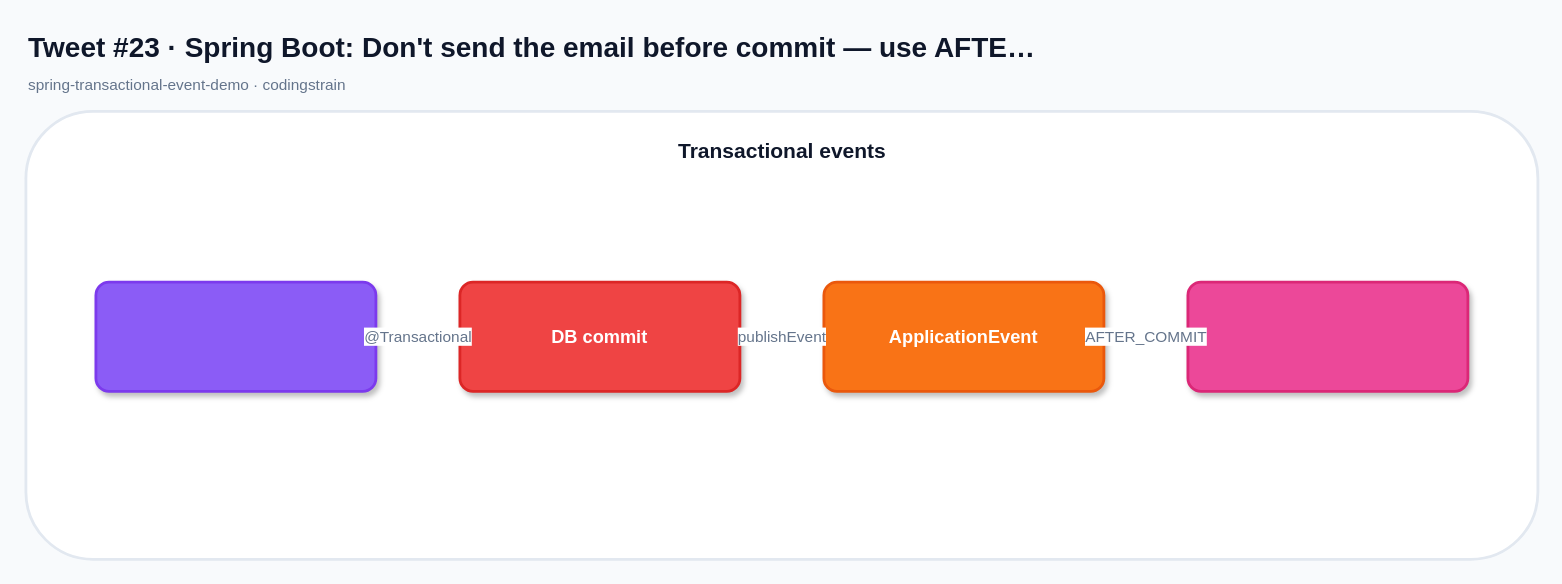
Image size: 1562x584. Some labels were removed from this diagram. Here are the shapes that lost their labels. From the top down, the centre of each, then its label:
At pixel 236 338: "createOrder()".
At pixel 1328 338: "@TransactionalEventListener".
